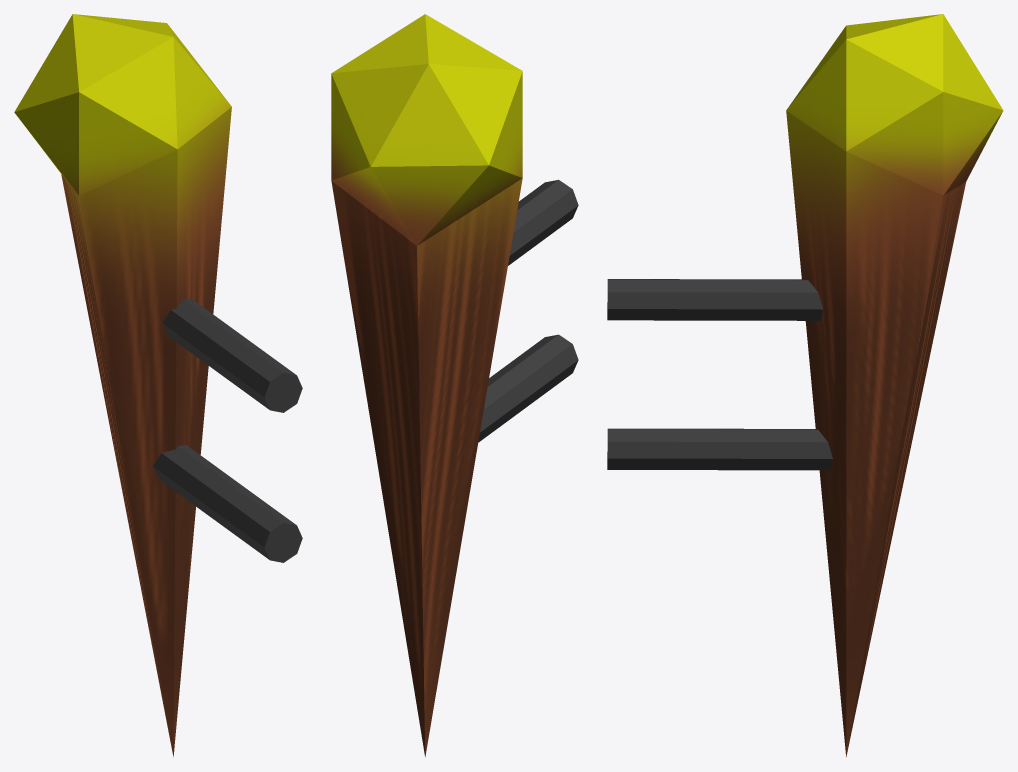
Rendered from torch.fbx.
3 views of the same model, side by side, from view 1: azimuth 30°, elevation 25°; view 2: azimuth 150°, elevation 25°; view 3: azimuth 270°, elevation 25° (orthographic). The views are drawn at different scales.
Visible parts, largest first — view 1: pPlatonic1, pCylinder1, pCylinder2; view 2: pPlatonic1, pCylinder1, pCylinder2; view 3: pPlatonic1, pCylinder1, pCylinder2.
Boxes of the visible parts, box(x1,y1,x2,y2) form: pPlatonic1: box(14, 14, 231, 757); pCylinder1: box(152, 445, 302, 562); pCylinder2: box(162, 298, 302, 412); pPlatonic1: box(331, 14, 522, 756); pCylinder1: box(478, 334, 578, 442); pCylinder2: box(508, 179, 578, 265); pPlatonic1: box(786, 14, 1003, 756); pCylinder1: box(607, 428, 832, 470); pCylinder2: box(607, 279, 823, 320).
Size of the model in its own units: 2.11 by 8.62 by 4.3.
Materials: 1 (1 with a texture image).
